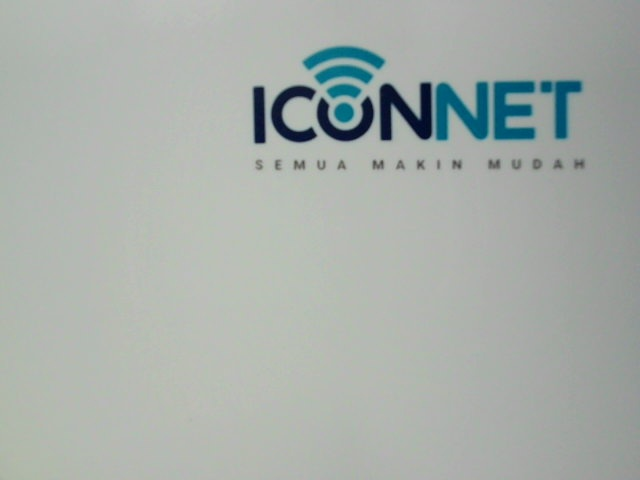BM_ICONNET: (233, 31, 598, 182)
